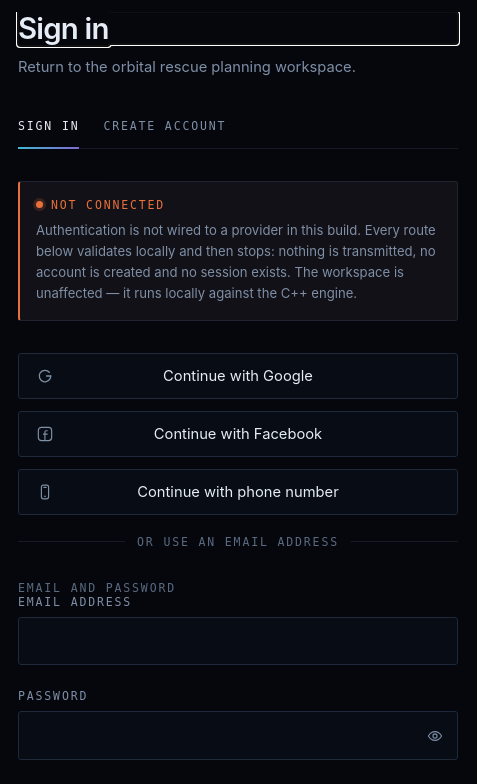
Test: AuthForm: the phone route › reveals the phone field, and puts the email fields away
Click the button "Continue with phone number" at (238, 492), box [18,469,458,515]
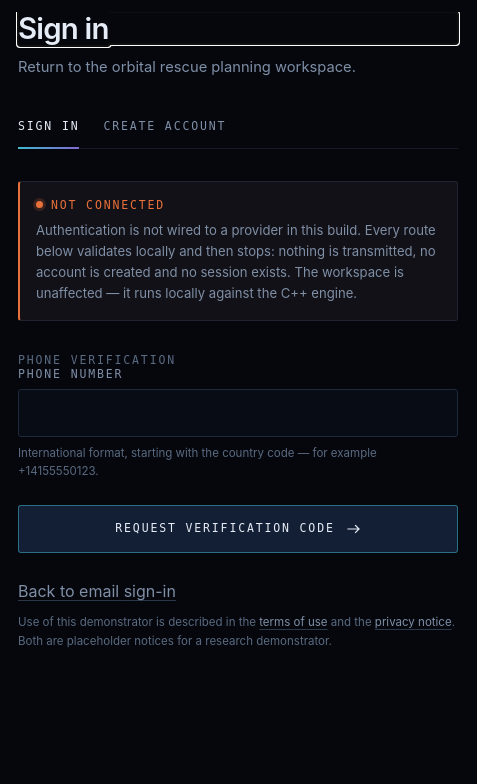
Now the field labelled "Phone number" is shown, box [18,389,458,437]
Now the button "Request verification code" is shown, box [18,505,458,553]
Now the text labelled "email address" is gone
